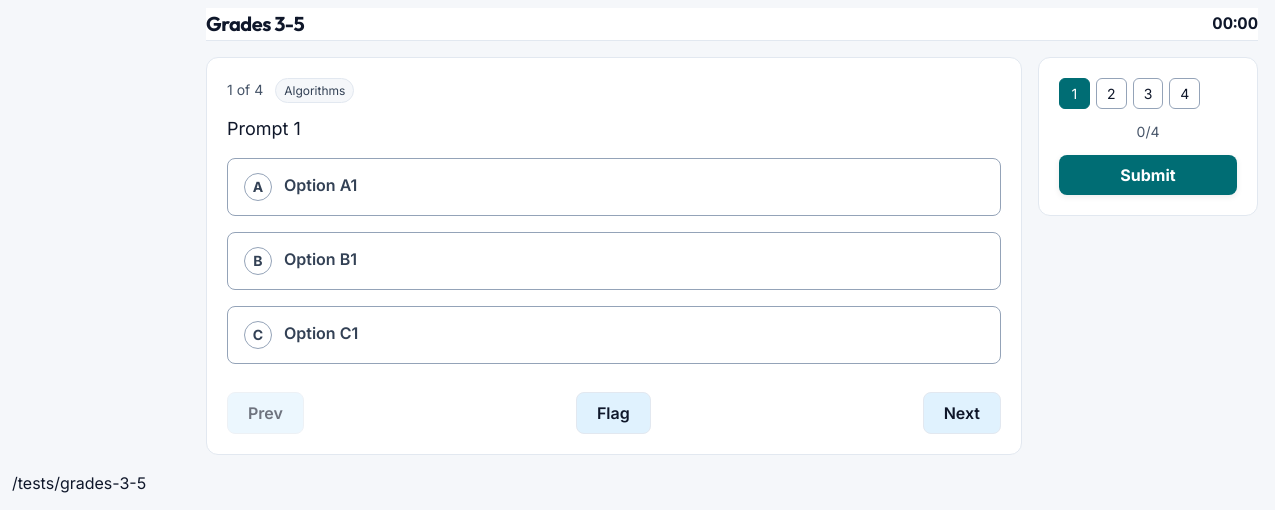
Scenario: TakeTest › question view › jumps with the palette and marks the current question
Expected: the text "Prompt 1" is shown, [227,118,301,139]
Click the button named "Question 3, unanswered" at (1148, 93), box [1133,78,1163,109]
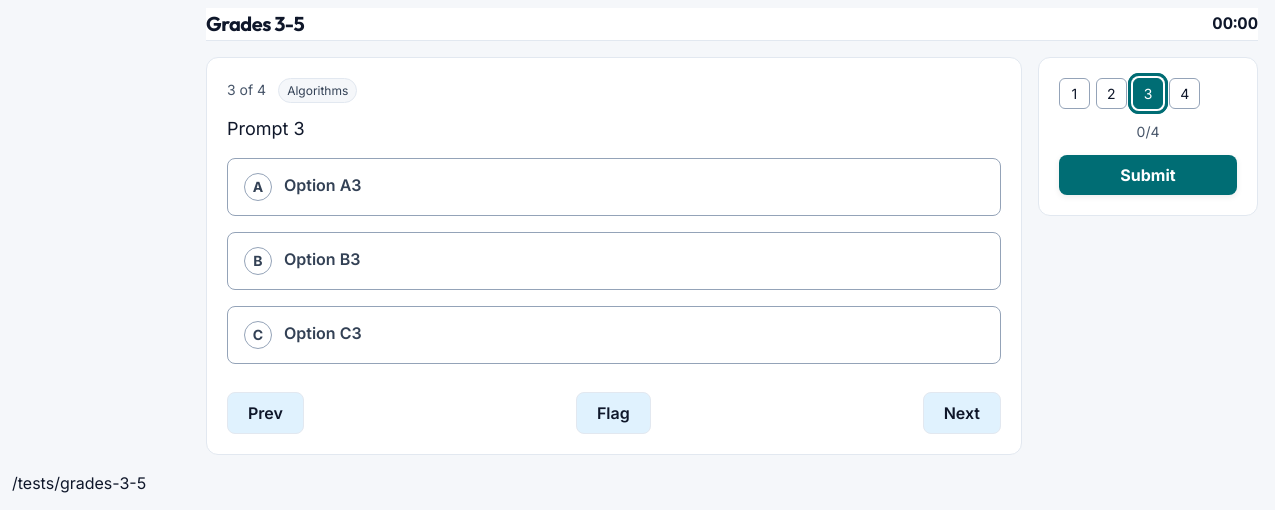
Expected: the text "Prompt 3" is shown, [227,118,305,139]
